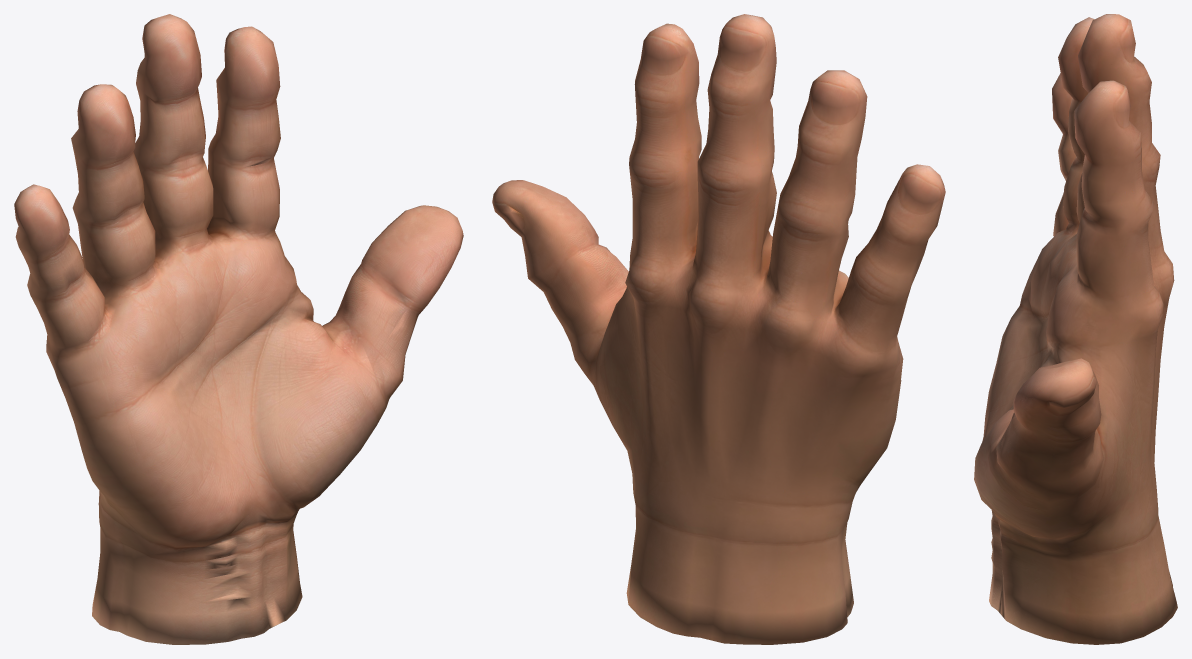
The model's file is PAPER.glb.
3 views of the same model, side by side, from view 1: azimuth 30°, elevation 25°; view 2: azimuth 150°, elevation 25°; view 3: azimuth 270°, elevation 25° (orthographic). The views are drawn at different scales.
Parts seen in each view (by area): view 1: tripo_node_5dc3889c-d3eb-4daf-9ba9-ab0261e09a1a; view 2: tripo_node_5dc3889c-d3eb-4daf-9ba9-ab0261e09a1a; view 3: tripo_node_5dc3889c-d3eb-4daf-9ba9-ab0261e09a1a.
Boxes of the visible parts, box(x1,y1,x2,y2) form: tripo_node_5dc3889c-d3eb-4daf-9ba9-ab0261e09a1a: box(14, 14, 463, 644); tripo_node_5dc3889c-d3eb-4daf-9ba9-ab0261e09a1a: box(492, 14, 945, 644); tripo_node_5dc3889c-d3eb-4daf-9ba9-ab0261e09a1a: box(974, 14, 1177, 644).
Size of the model in its own units: 0.7704 by 0.9769 by 0.3154.
1 material, 1 textured.
